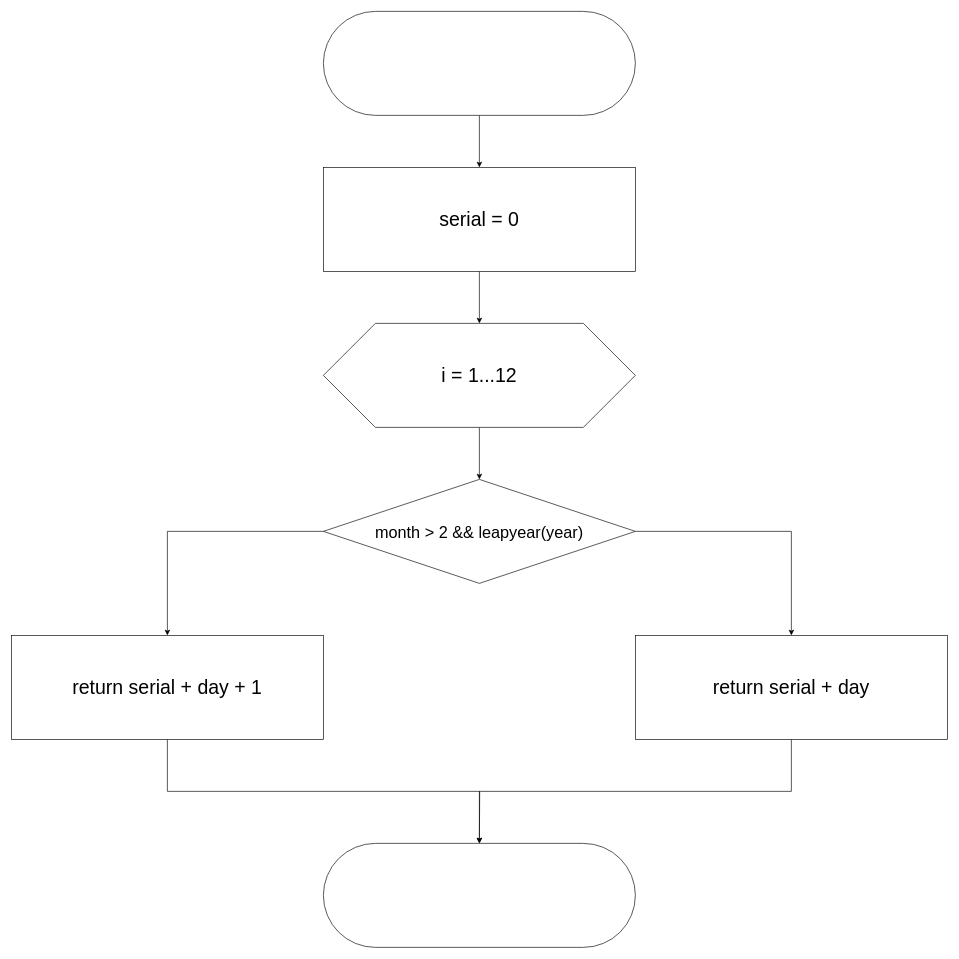
The diagram is 959 pixels wide and 959 high, and some of its shapes have lost their labels. The shapes that lost their labels are listed below. From the top down, each one's box as (x1, y1, x2, y2) in pixels, then its label:
(323, 11, 635, 115): Начало
(323, 843, 635, 947): Конец
